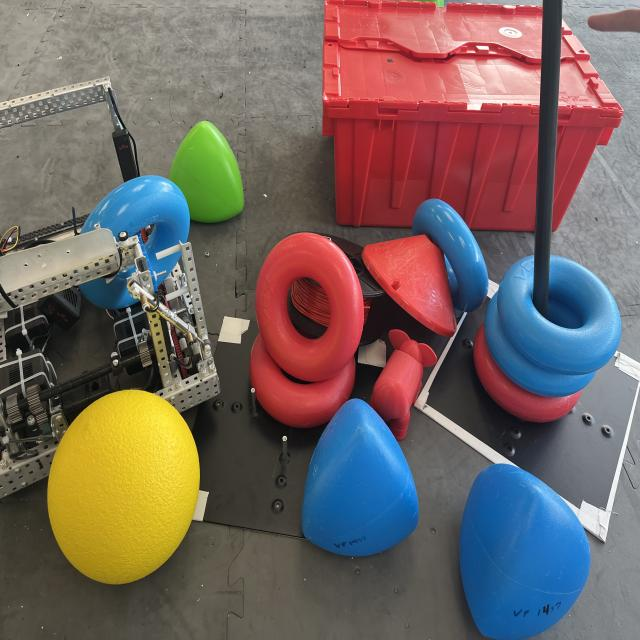Blue-Ring: (79, 176, 190, 310), (498, 255, 621, 375), (484, 292, 595, 397), (412, 198, 488, 312)
Red-Ring: (255, 233, 364, 382), (474, 323, 581, 422), (250, 333, 355, 428)
